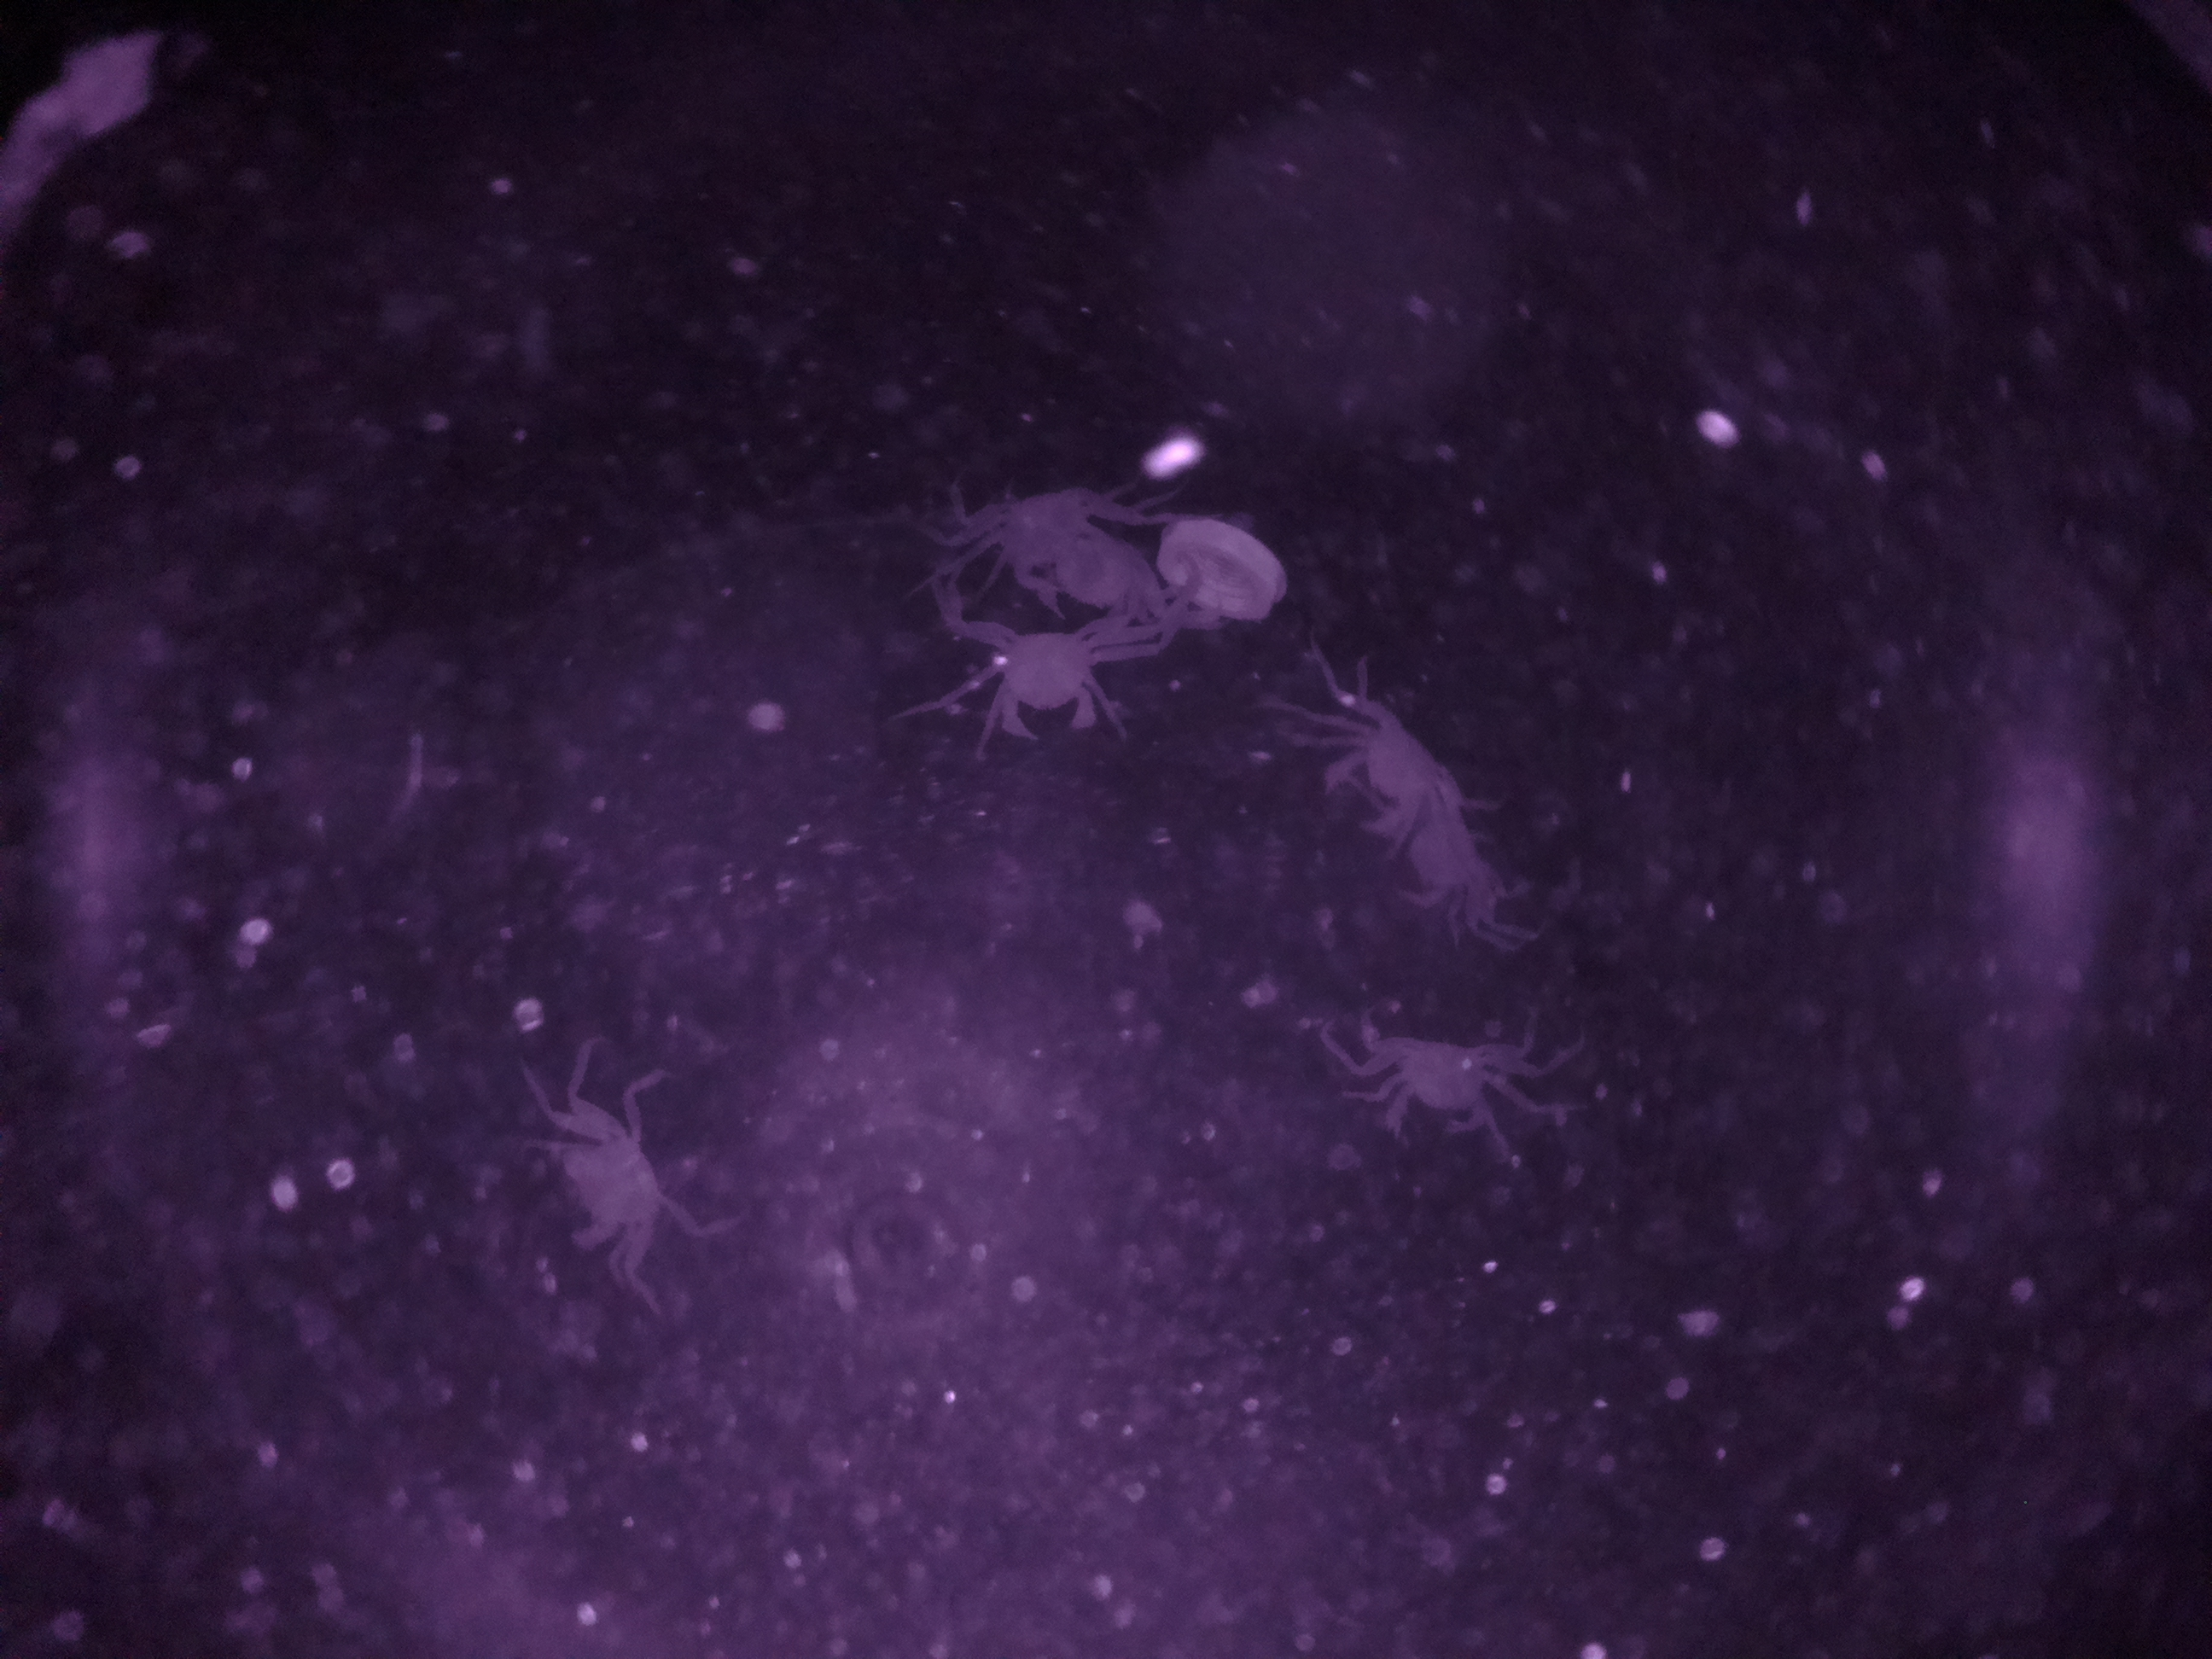Crab: (517, 1046, 721, 1305), (1287, 999, 1594, 1162), (897, 596, 1188, 767)
